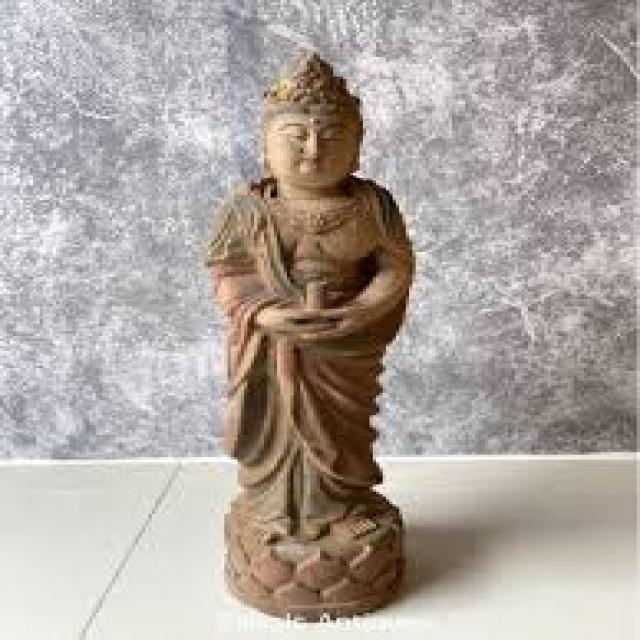Guan Yin: (219, 52, 387, 222)
